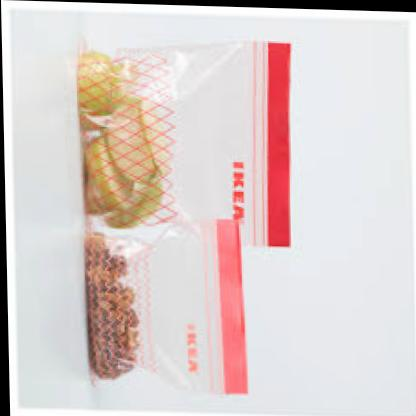Plastic: (73, 26, 313, 244), (54, 224, 330, 393)
